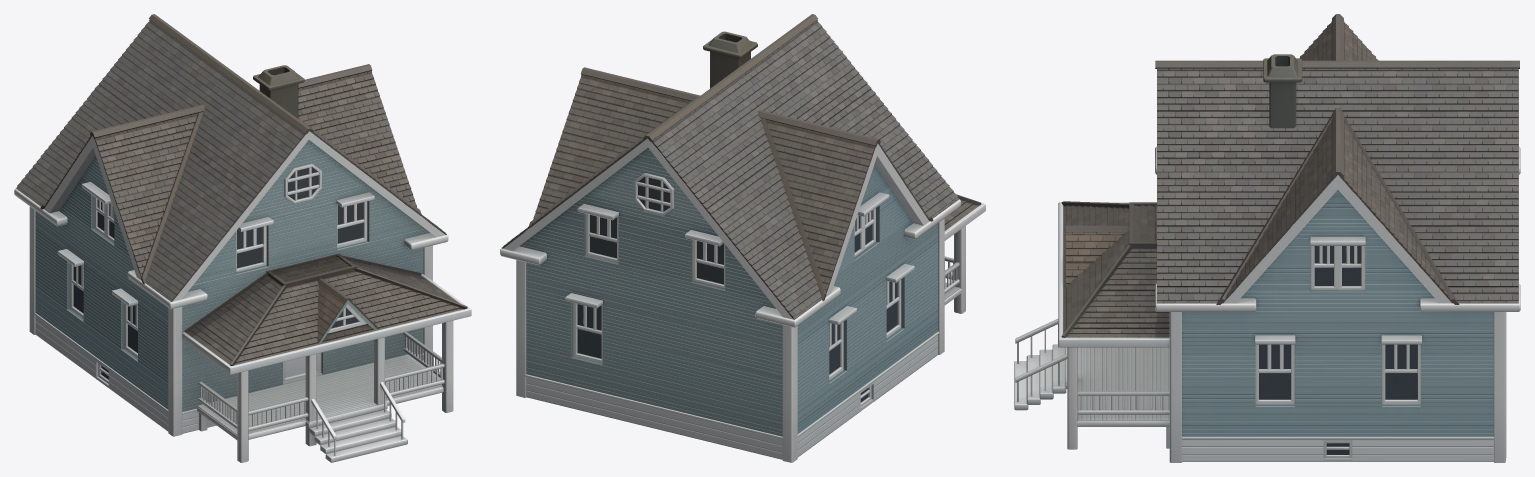
The model's file is blue_house-transformed.glb.
3 views of the same model, side by side, from view 1: azimuth 30°, elevation 25°; view 2: azimuth 150°, elevation 25°; view 3: azimuth 270°, elevation 25° (orthographic). The views are drawn at different scales.
Parts seen in each view (by area): view 1: Object_5; view 2: Object_5; view 3: Object_5.
Boxes of the visible parts, <box> form: Object_5: <box>14,14,471,462</box>; Object_5: <box>500,14,985,462</box>; Object_5: <box>1014,14,1520,462</box>.
Size of the model in its own units: 0.6043 by 0.6067 by 0.8156.
Materials: 1 (1 with a texture image).
